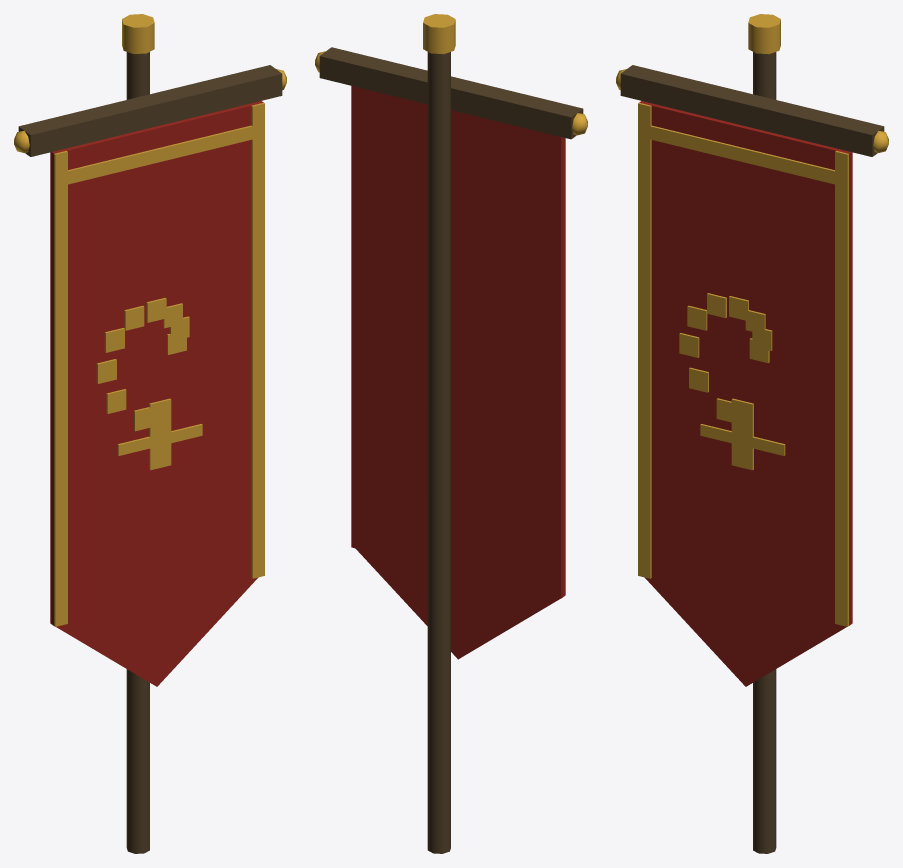
Rendered from jt_banner_red.glb.
The picture shows the model from 3 angles, left to right: view 1: azimuth 30°, elevation 25°; view 2: azimuth 150°, elevation 25°; view 3: azimuth 330°, elevation 25°; orthographic projection.
Parts seen in each view (by area): view 1: jt_banner_red; view 2: jt_banner_red; view 3: jt_banner_red.
Part boxes in pixels (x1,y1,x2,y2): jt_banner_red: (14,14,286,853); jt_banner_red: (315,14,587,853); jt_banner_red: (616,14,888,853).
Bounding box in the file's own units: 1.3 × 3.77 × 0.255.
